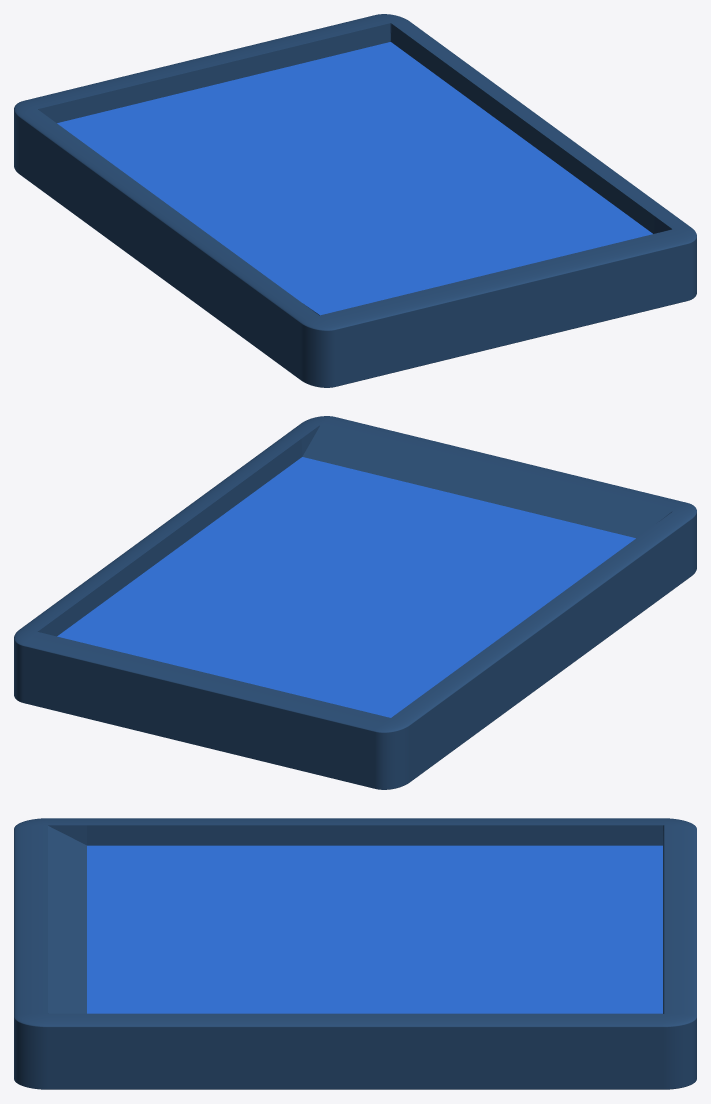
The model's file is TabletteBleu.fbx.
3 renders of one model, top to bottom at view 1: azimuth 30°, elevation 25°; view 2: azimuth 150°, elevation 25°; view 3: azimuth 270°, elevation 25°, orthographic. The views are drawn at different scales.
Parts seen in each view (by area): view 1: Cube; view 2: Cube; view 3: Cube.
Boxes of the visible parts, x1=… form: Cube: x1=14, y1=14, x2=696, y2=387; Cube: x1=14, y1=416, x2=696, y2=789; Cube: x1=14, y1=818, x2=696, y2=1089.
Bounding box in the file's own units: 130 × 20 × 180.
